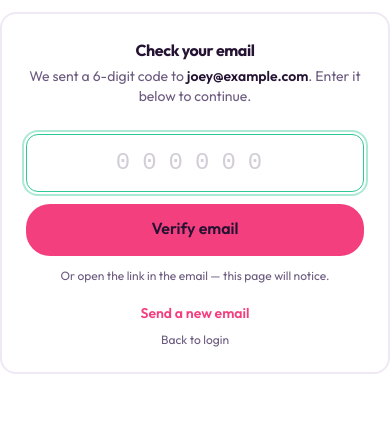
Test case: code entry › shows how many tries are left when the server says
Type "111111" into the field named "Verification code" at (195, 163), box left=26, top=134, right=364, bottom=192
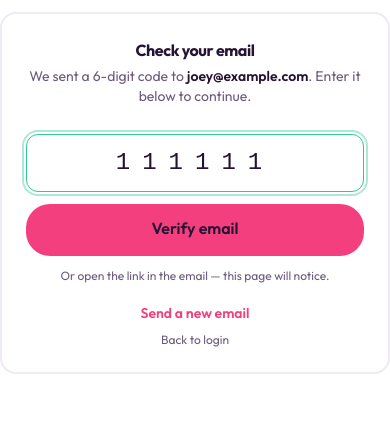
Click the button "Verify email" at (195, 228), box left=26, top=204, right=364, bottom=252
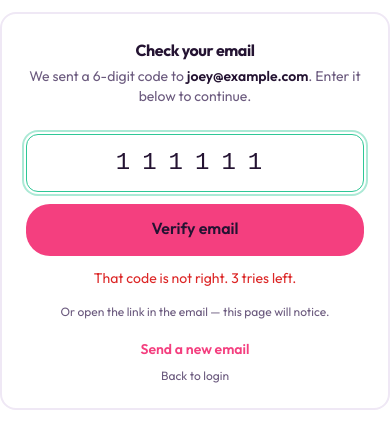
Check: the text "That code is not right. 3 tries left." is shown, box left=94, top=269, right=296, bottom=287
